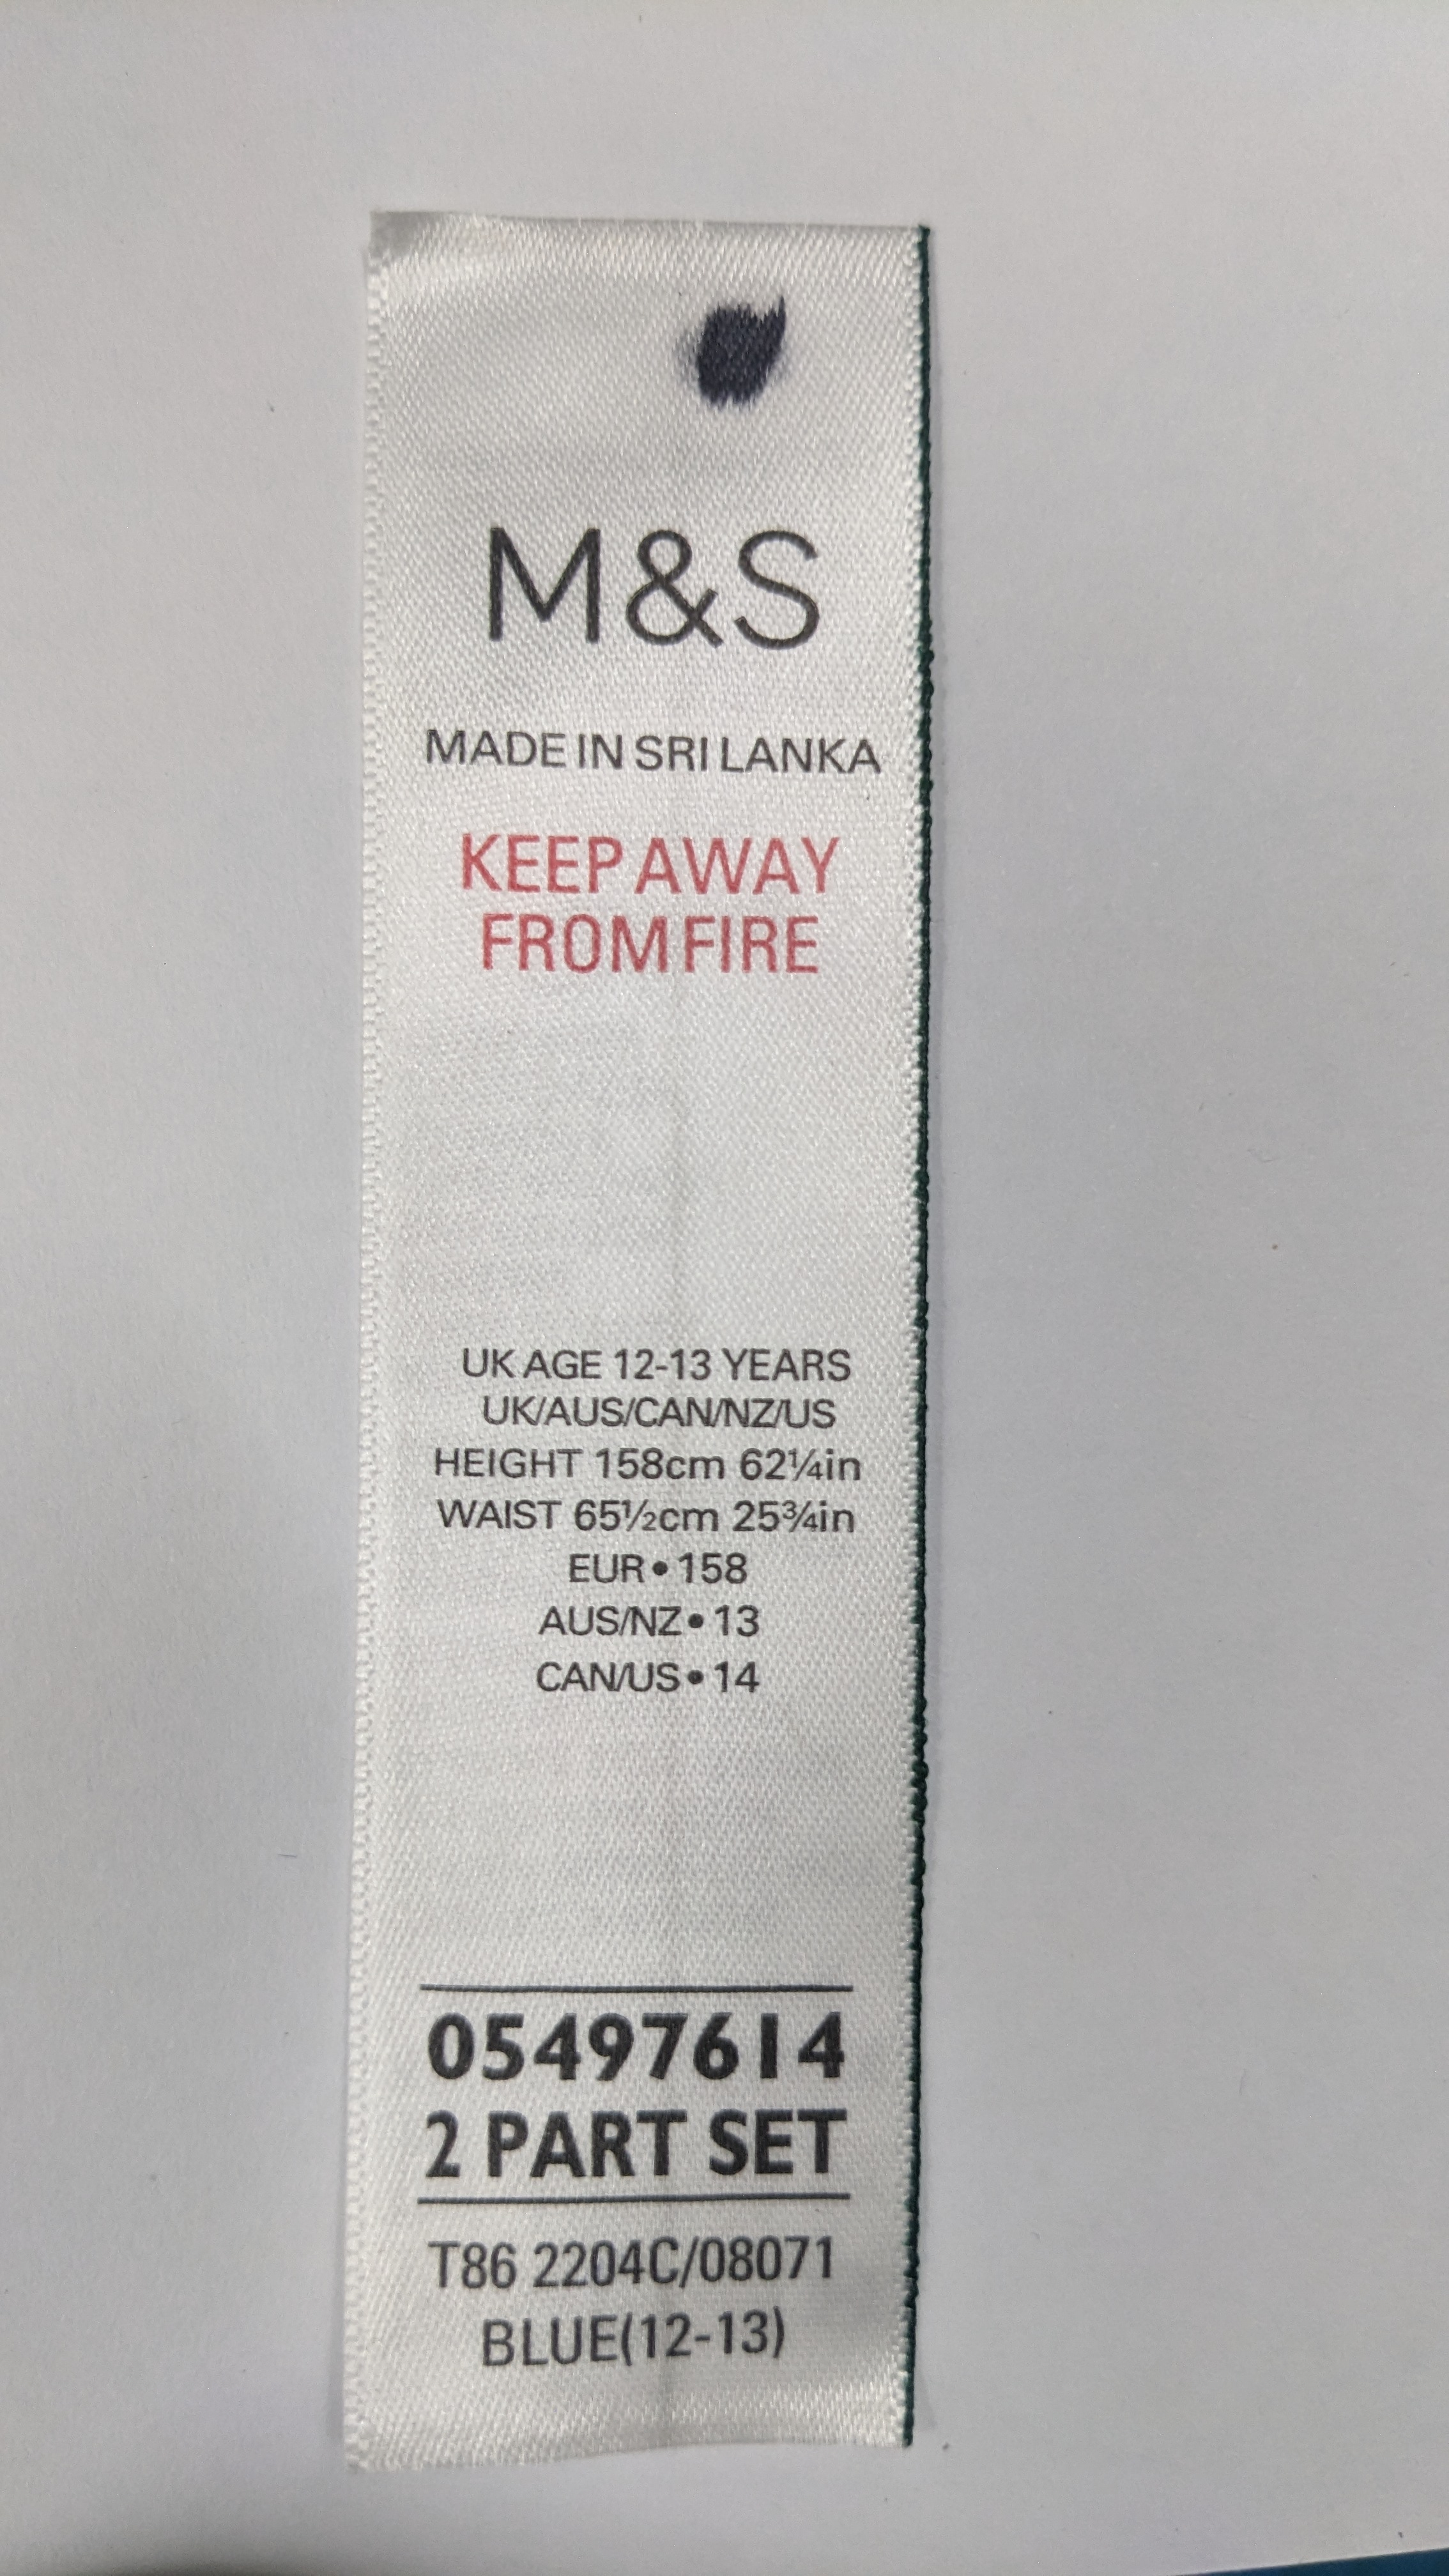Damaged_label: (364, 175, 925, 2449)
